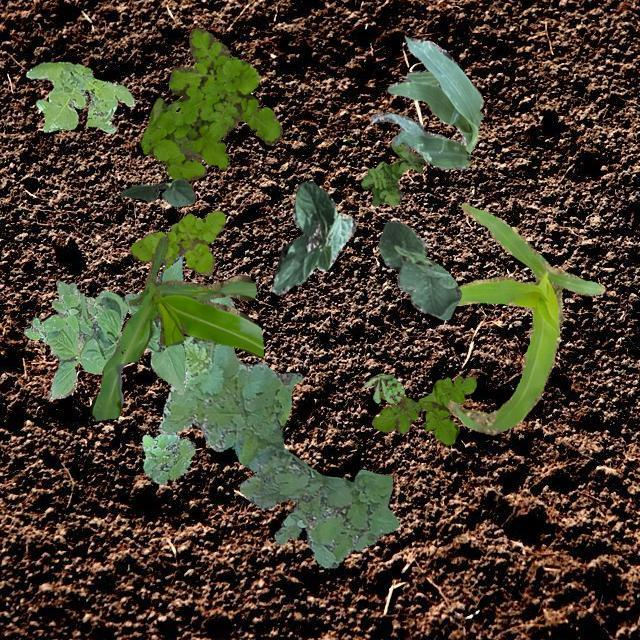crop: (446, 202, 604, 434), (90, 236, 262, 420), (46, 255, 186, 398), (369, 34, 482, 168), (272, 180, 354, 294), (378, 220, 460, 318), (120, 178, 194, 205)
weed: (158, 294, 398, 566), (140, 27, 282, 180), (26, 61, 134, 132), (370, 374, 476, 444), (128, 210, 224, 274), (22, 282, 104, 341), (360, 142, 424, 204), (142, 432, 194, 483), (362, 372, 403, 403)
